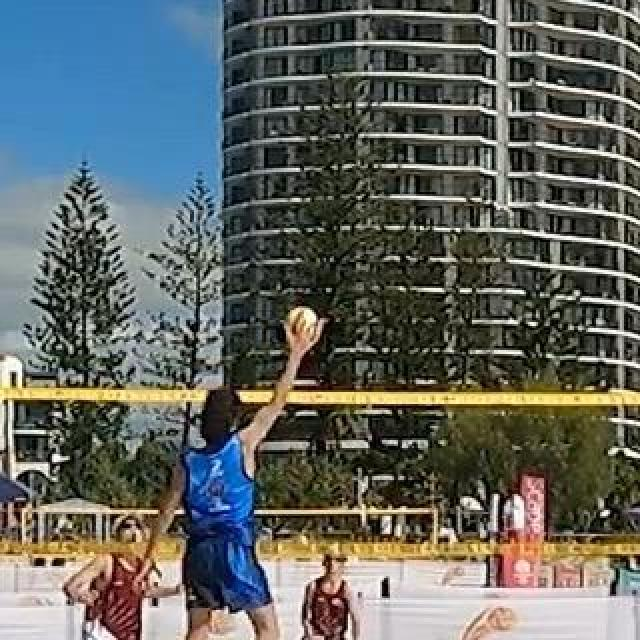volleyball: (285, 306, 319, 342)
